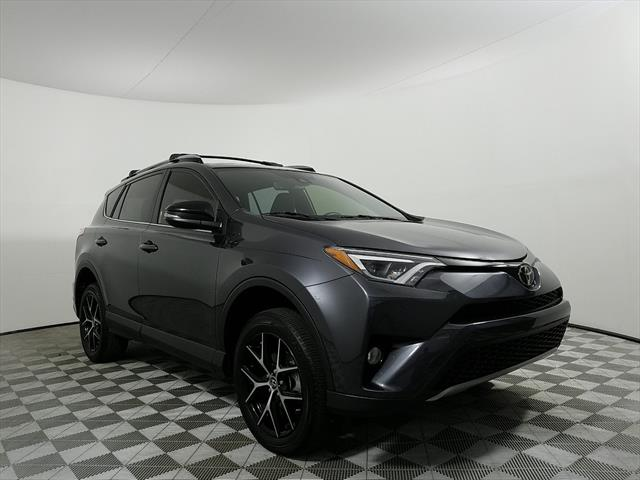Toyota RAV-4: (70, 152, 572, 457)
